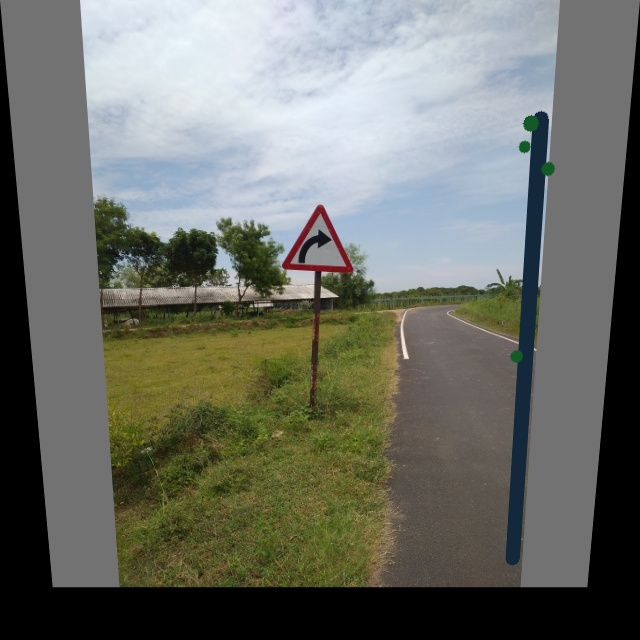Right_Hand_Curve: (282, 204, 352, 274)
